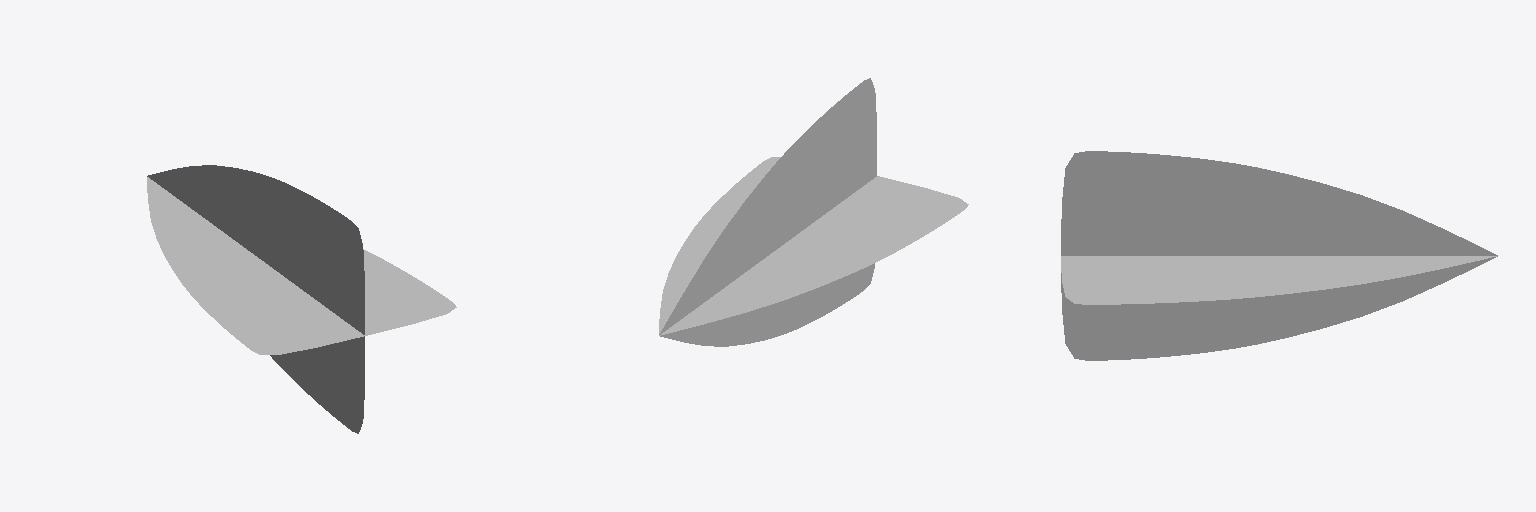
Rendered from fireball_trail.obj.
3 views of the same model, side by side, from view 1: azimuth 30°, elevation 25°; view 2: azimuth 150°, elevation 25°; view 3: azimuth 270°, elevation 25° (orthographic).
Parts seen in each view (by area): view 1: FireballTrail; view 2: FireballTrail; view 3: FireballTrail.
Part boxes in pixels (bbox=[...]): FireballTrail: bbox=[147, 165, 456, 433]; FireballTrail: bbox=[659, 78, 968, 346]; FireballTrail: bbox=[1061, 151, 1497, 360].
Size of the model in its own units: 2 by 2 by 3.78.